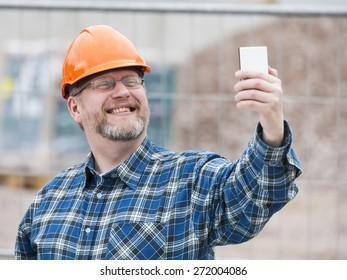helmet: (60, 23, 152, 87)
